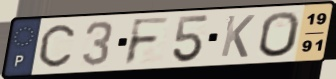3: (80, 18, 116, 69)
5: (170, 13, 211, 64)
C: (37, 22, 78, 69)
F: (122, 15, 173, 67)
K: (218, 14, 257, 60)
O: (257, 10, 302, 59)
